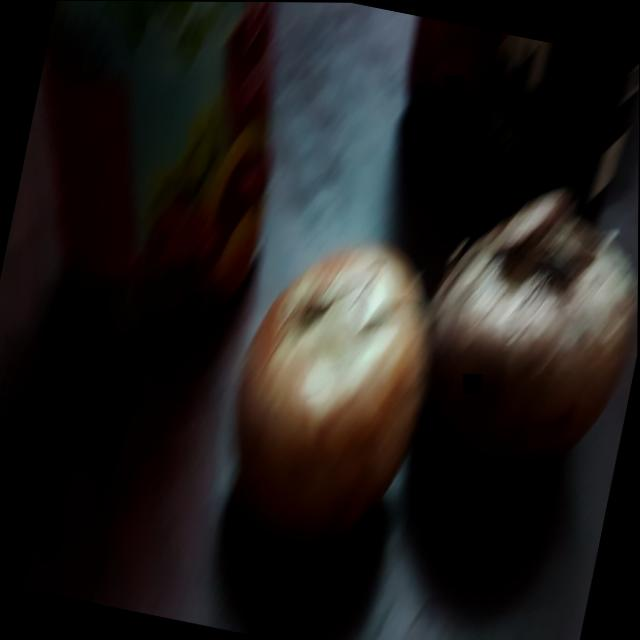onion: (198, 187, 455, 576), (413, 179, 639, 488)
